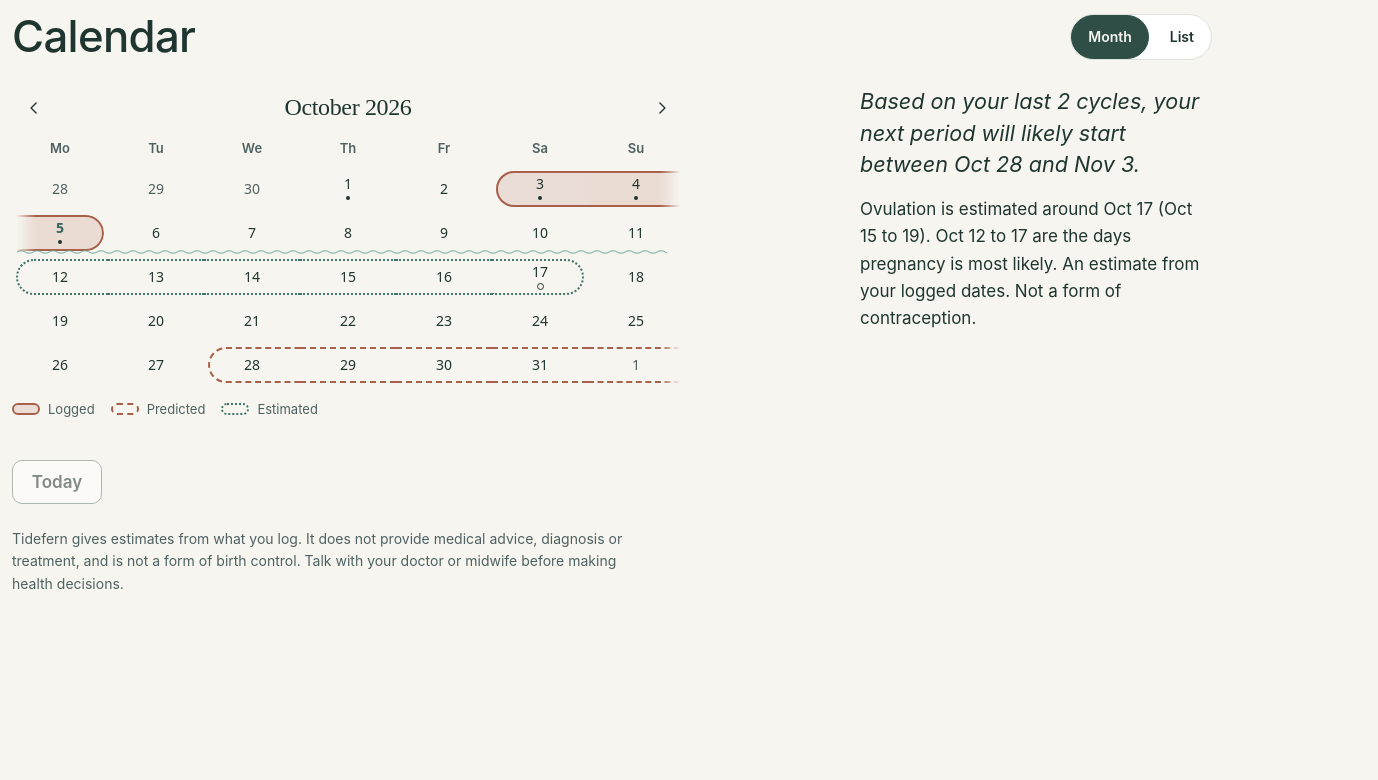
Test case: moving between months while one is still loading › shows the month asked for at once with Loading, so Next twice lands two months on
The width and height of the screenshot is (1378, 780).
Click the button named "Next month" at coordinates (662, 108), box [640, 86, 684, 130]
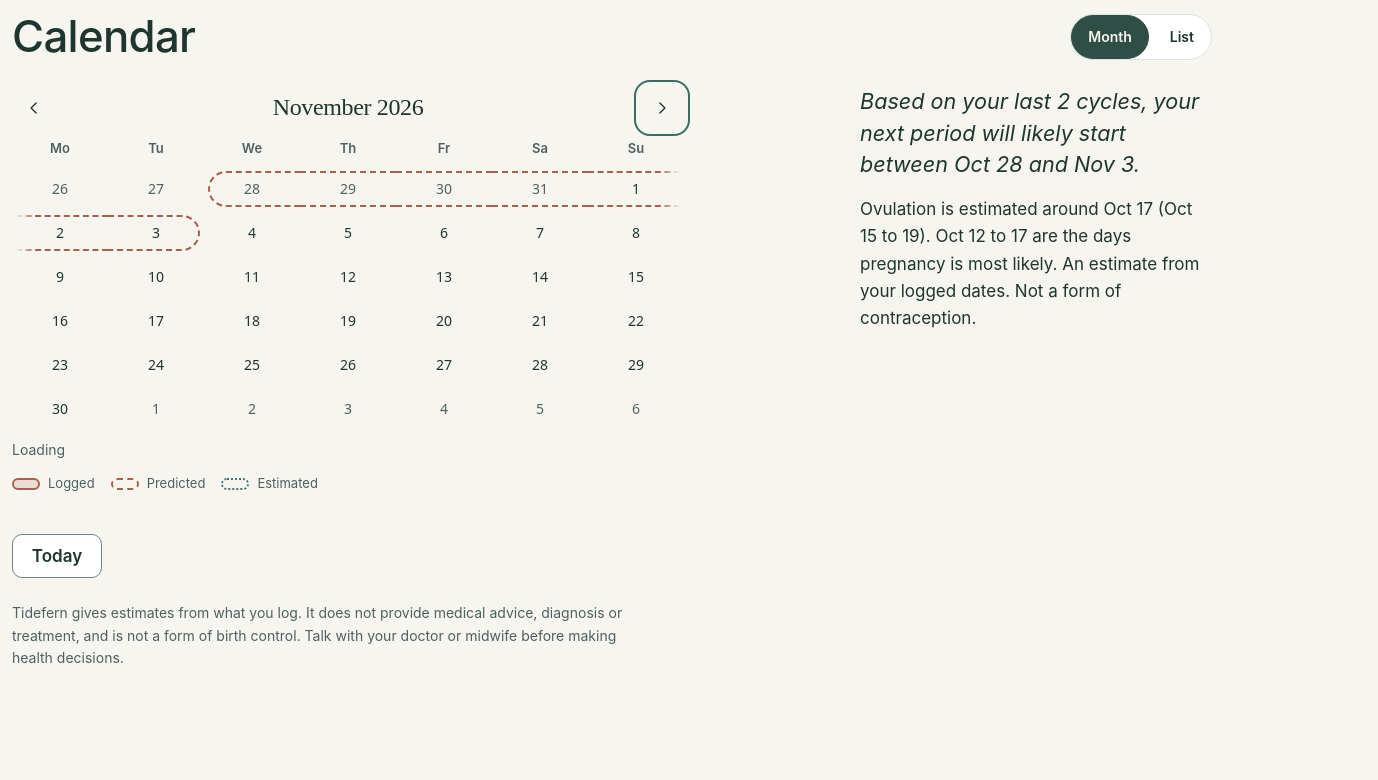
Now the table named "November 2026" is shown, box [12, 130, 684, 431]
Now the text "Loading" is shown, box [12, 441, 65, 458]
Click the button named "Next month" at coordinates (662, 108), box [640, 86, 684, 130]
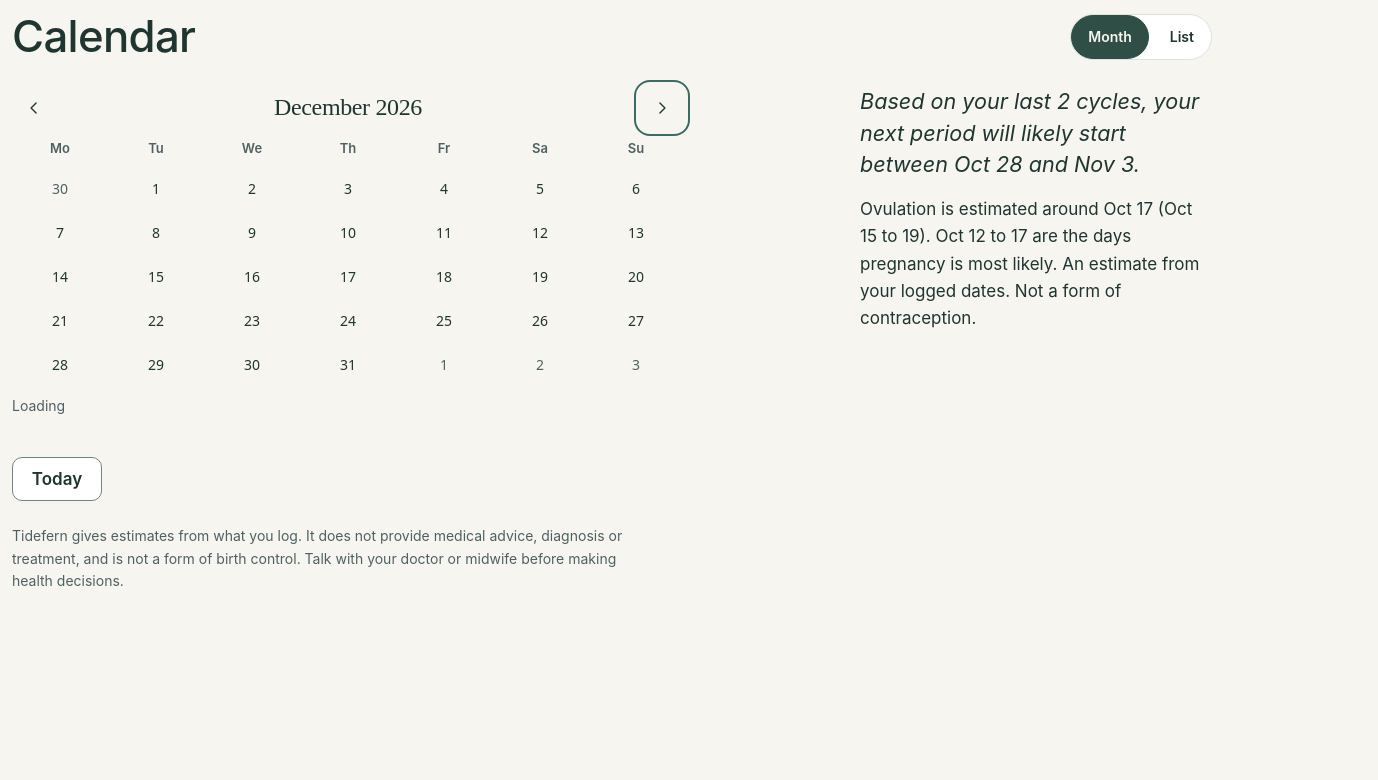
Now the table named "December 2026" is shown, box [12, 130, 684, 387]
